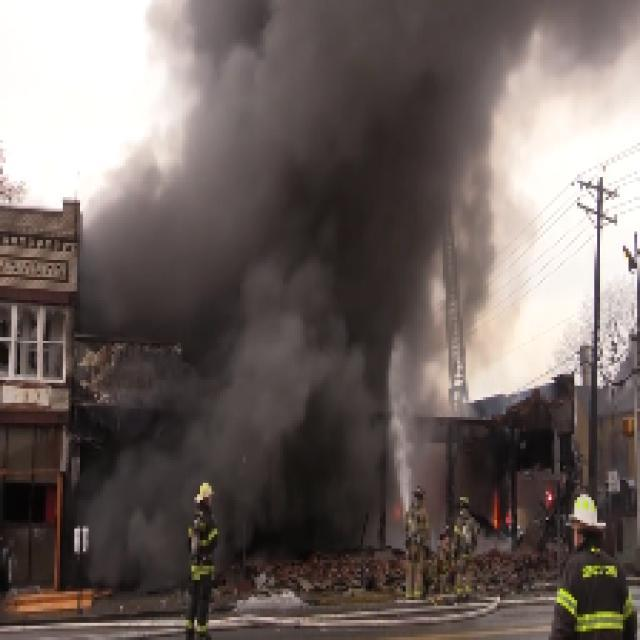Smoke: (97, 2, 523, 314), (220, 326, 380, 540), (86, 454, 186, 577), (537, 2, 640, 114)
